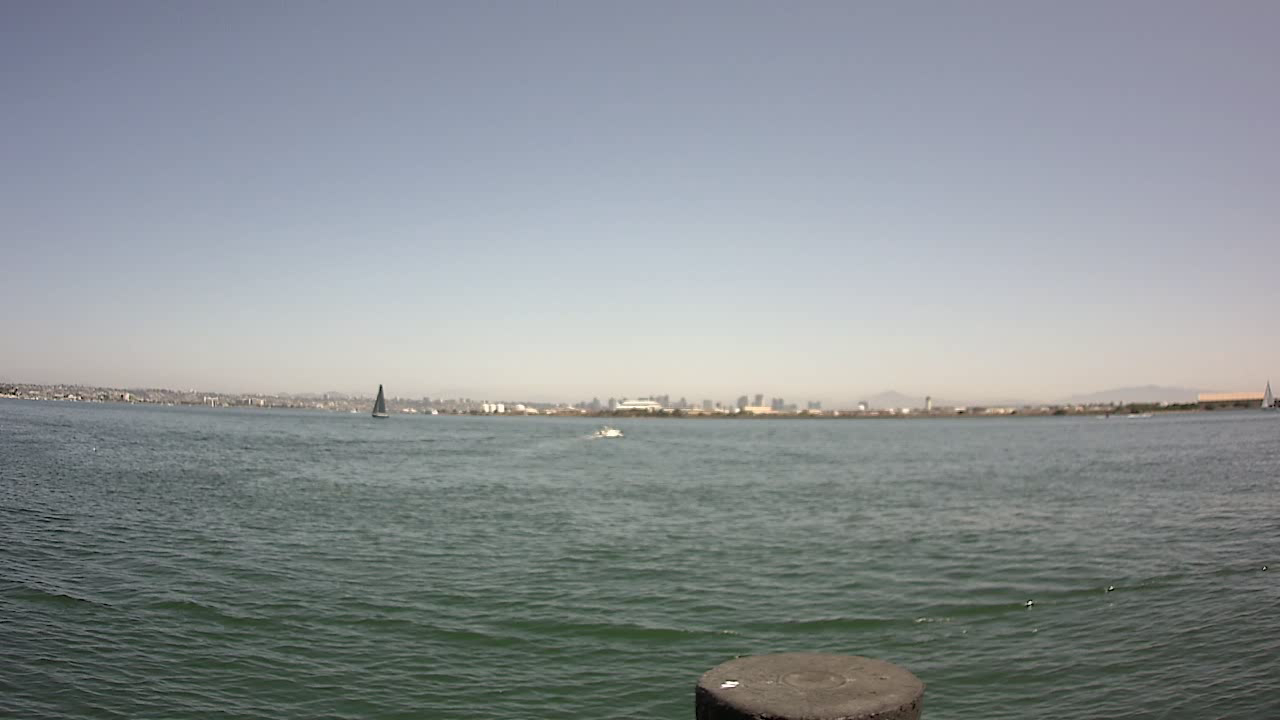target: (591, 423, 635, 442)
